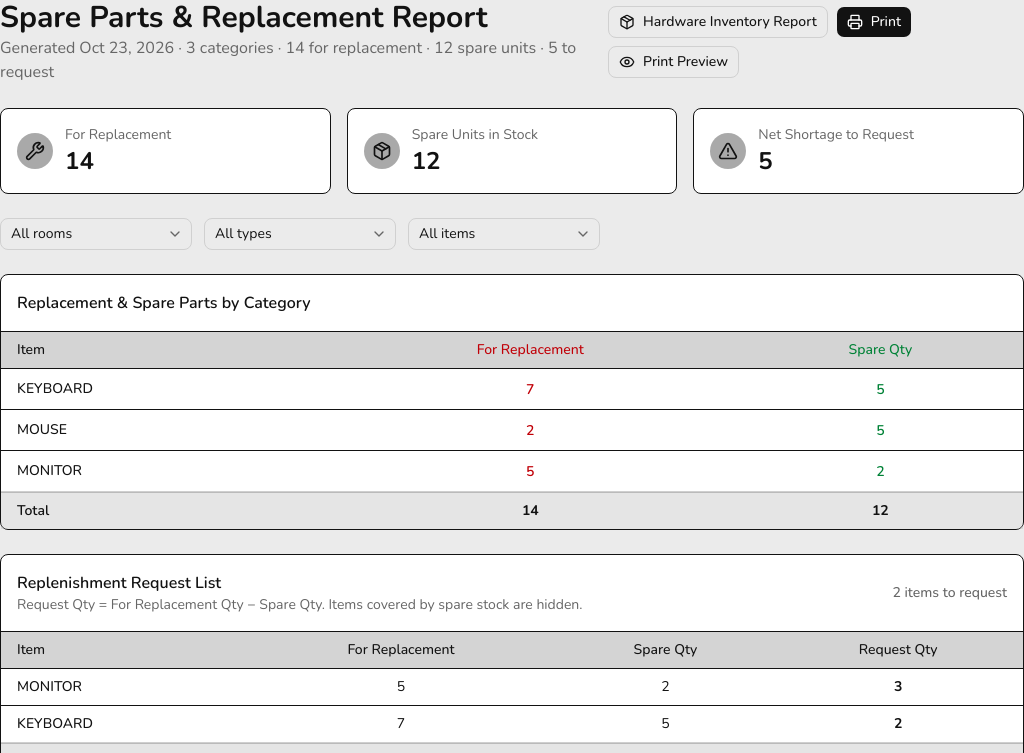
SparePartsReport › applies the component type filter and renders the filtered response
Click the dropdown named "filter by component type": [300, 234] box [204,218,396,250]
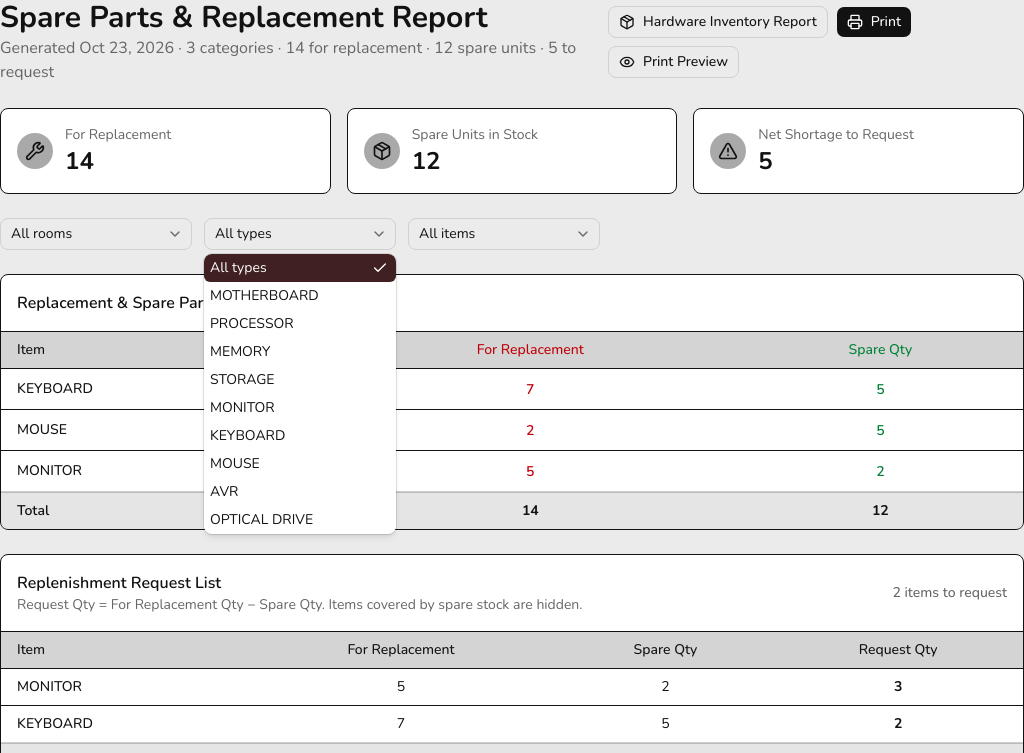
Click the option "MONITOR": [242, 408] box [210,398,275,417]
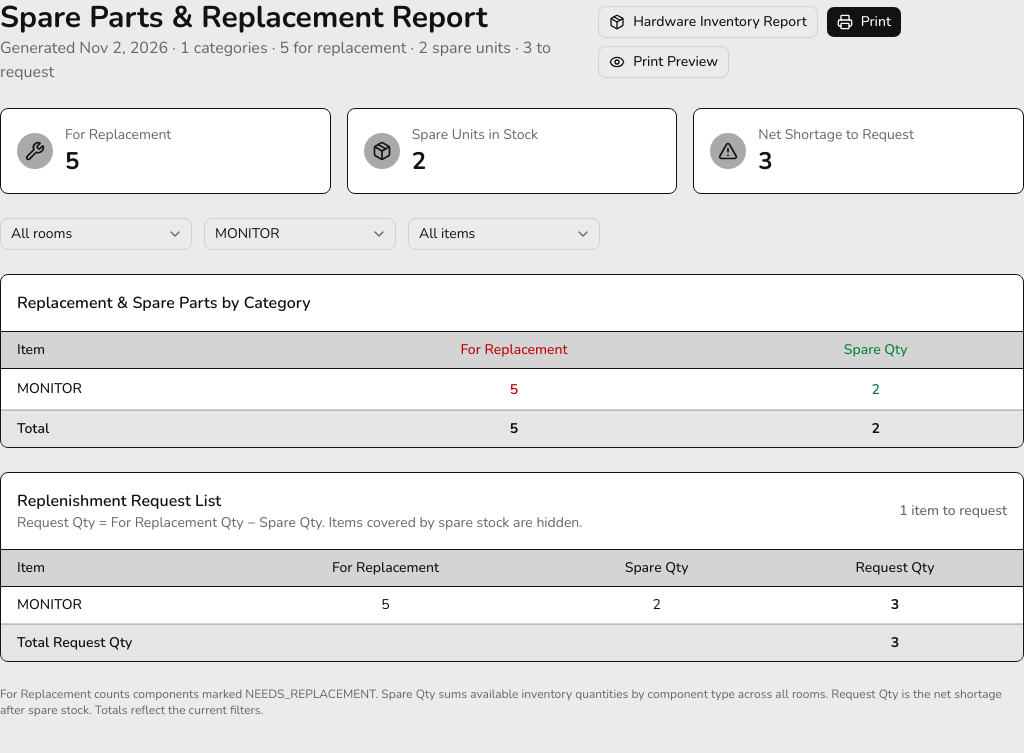
Check: the link "MONITOR" below "Replacement & Spare Parts by Category" is shown, box [17,379,82,398]
Check: the link "KEYBOARD" is gone
